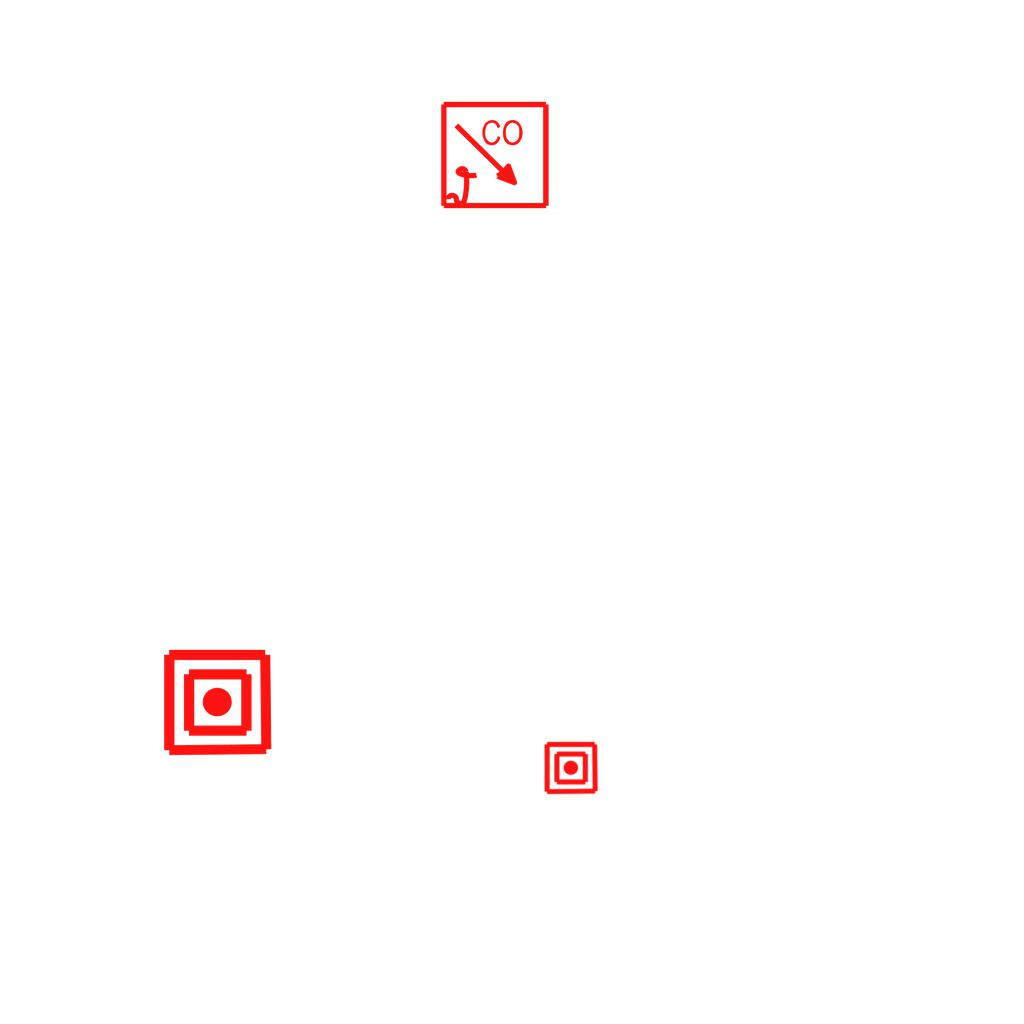NAM-Nichtautomatischer_Melder: (161, 646, 274, 759), (543, 740, 599, 796)
ROA_Rauchmelder_optisch_mit_Signalgeber_(Sockelsirene): (439, 100, 552, 213)
